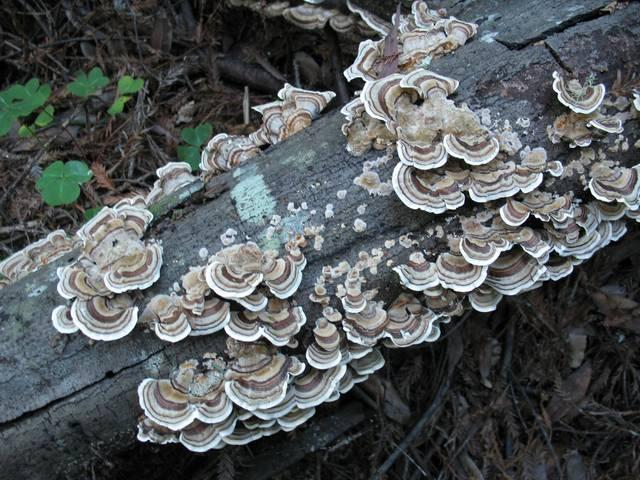poisonous_mushroom: (2, 0, 639, 454)
